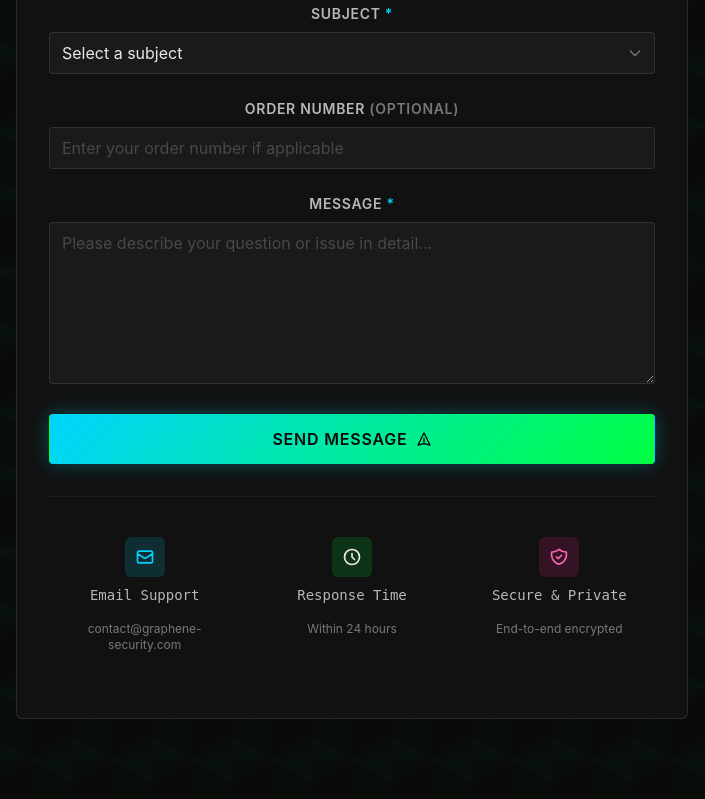
Scenario: ContactUsPage › Form submission › prevents submission with validation errors
The width and height of the screenshot is (705, 799).
(page scrolled)
Click the button "Send Message". click: {"x": 352, "y": 439}
box: [49,414,655,464]
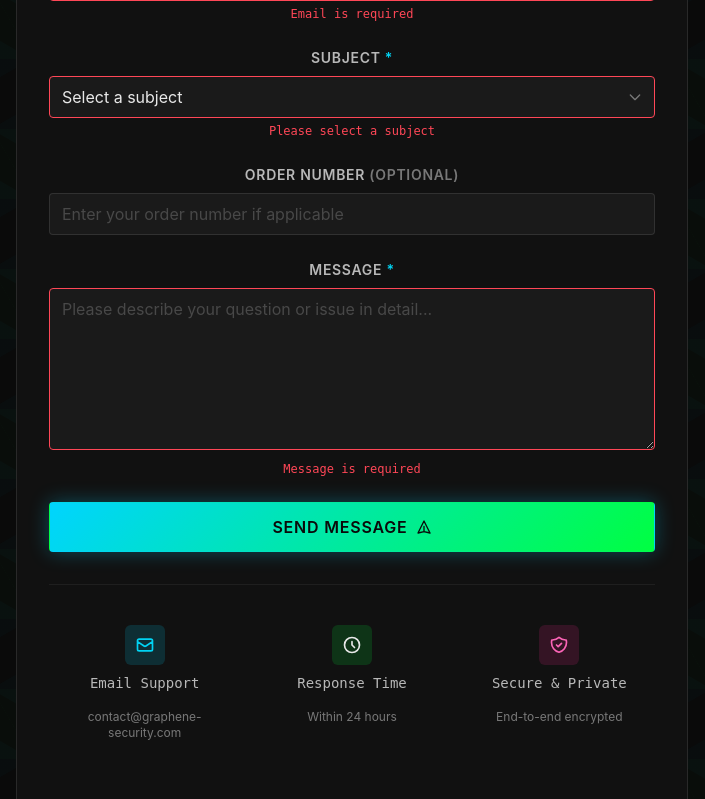
Result: the text "Email is required" is shown at [291,7,413,21]
Result: the text "Please select a subject" is shown at [269,124,435,138]
Result: the text "Message is required" is shown at [283,462,421,476]
